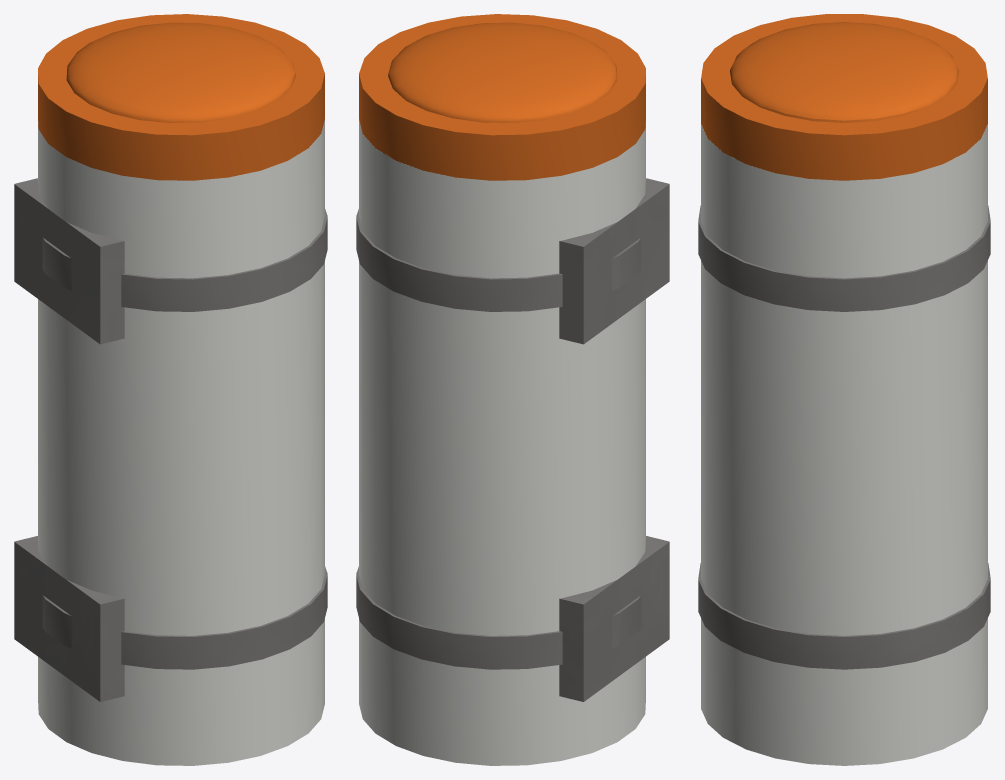
Rendered from stage17_radial_recovery_chute_s.glb.
3 views of the same model, side by side, from view 1: azimuth 30°, elevation 25°; view 2: azimuth 150°, elevation 25°; view 3: azimuth 270°, elevation 25° (orthographic).
Parts seen in each view (by area): view 1: canister, lid, saddle, bands; view 2: canister, lid, saddle, bands; view 3: canister, lid, bands.
Boxes of the visible parts, bbox=[...] form: canister: bbox=[38, 119, 324, 765]; lid: bbox=[38, 14, 324, 180]; saddle: bbox=[14, 178, 124, 701]; bands: bbox=[42, 209, 327, 669]; canister: bbox=[359, 119, 645, 765]; lid: bbox=[359, 14, 645, 180]; saddle: bbox=[559, 178, 669, 701]; bands: bbox=[356, 209, 641, 669]; canister: bbox=[701, 124, 987, 765]; lid: bbox=[701, 14, 987, 180]; bands: bbox=[698, 205, 990, 669].
Bounding box in the file's own units: 0.4078 × 1 × 0.4079.
3 materials, 1 textured.
